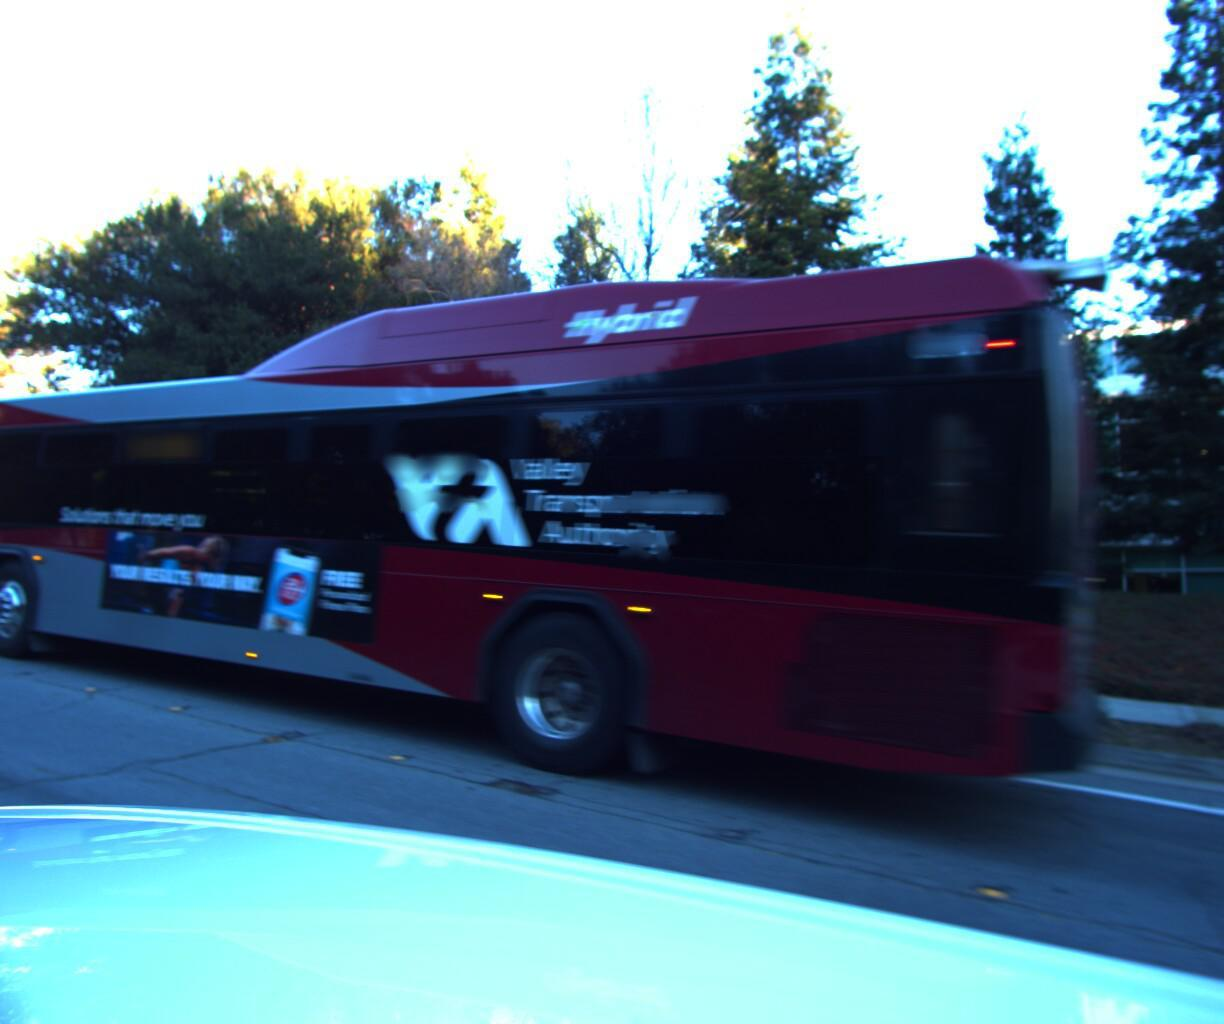bus: (0, 112, 1120, 914)
